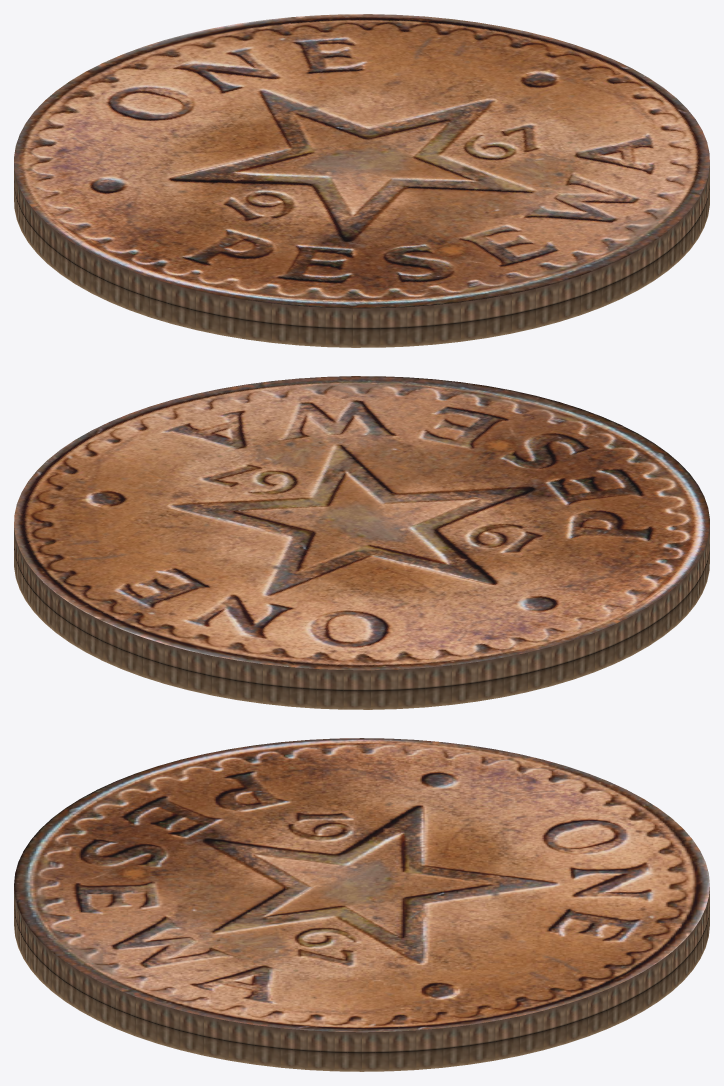
File: Ghana 1967 1 pesewa.fbx
3 renders of one model, top to bottom at view 1: azimuth 30°, elevation 25°; view 2: azimuth 150°, elevation 25°; view 3: azimuth 270°, elevation 25°, orthographic.
Parts seen in each view (by area): view 1: Cylinder; view 2: Cylinder; view 3: Cylinder.
Boxes of the visible parts, x1=… form: Cylinder: x1=14, y1=14, x2=709, y2=347; Cylinder: x1=14, y1=376, x2=709, y2=709; Cylinder: x1=14, y1=738, x2=709, y2=1071.
Bounding box in the file's own units: 200 × 12.56 × 200.
Materials: 1 (1 with a texture image).
